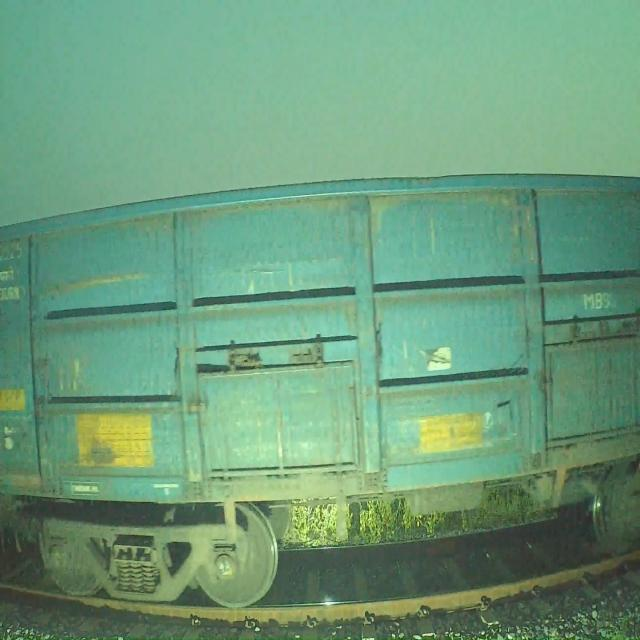WAgon-uic: (0, 162, 640, 616)
